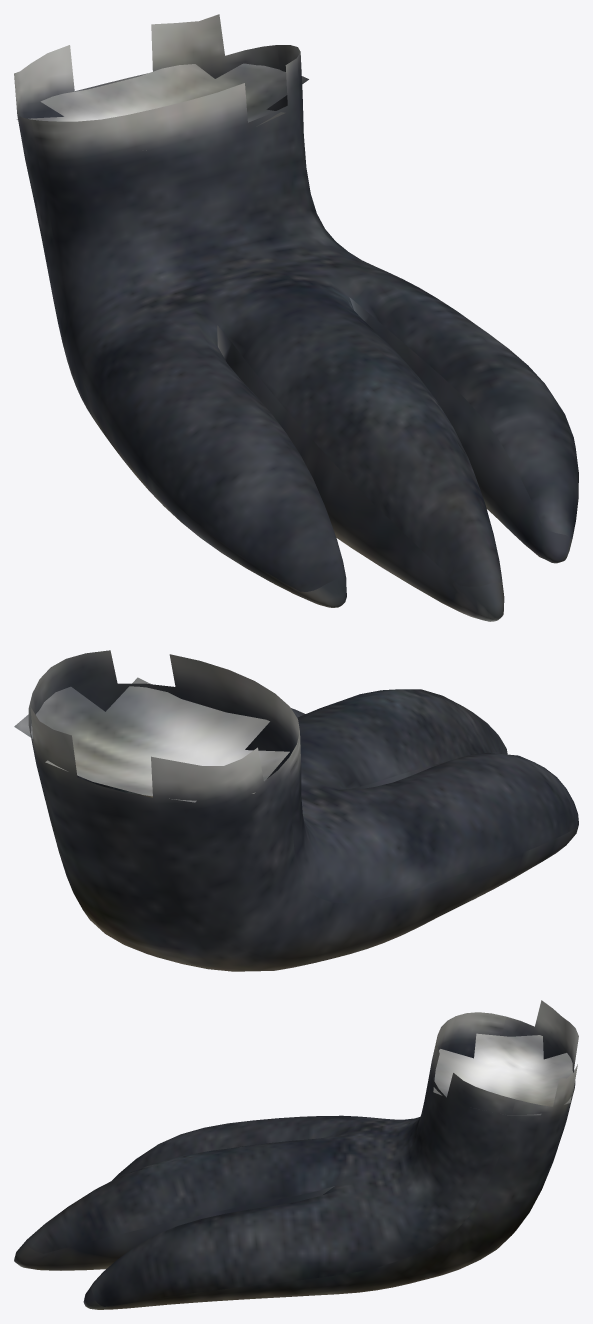
File: pataIzquieda.obj
The picture shows the model from 3 angles, top to bottom: view 1: azimuth 30°, elevation 25°; view 2: azimuth 150°, elevation 25°; view 3: azimuth 270°, elevation 25°; orthographic projection. The views are drawn at different scales.
Parts seen in each view (by area): view 1: pataIzquierda; view 2: pataIzquierda; view 3: pataIzquierda.
Boxes of the visible parts, left/top/right/bottom form: pataIzquierda: left=14, top=14, right=578, bottom=621; pataIzquierda: left=14, top=650, right=578, bottom=971; pataIzquierda: left=14, top=1000, right=578, bottom=1309.
Bounding box in the file's own units: 0.9324 × 0.7464 × 1.67.
1 material, 1 textured.
